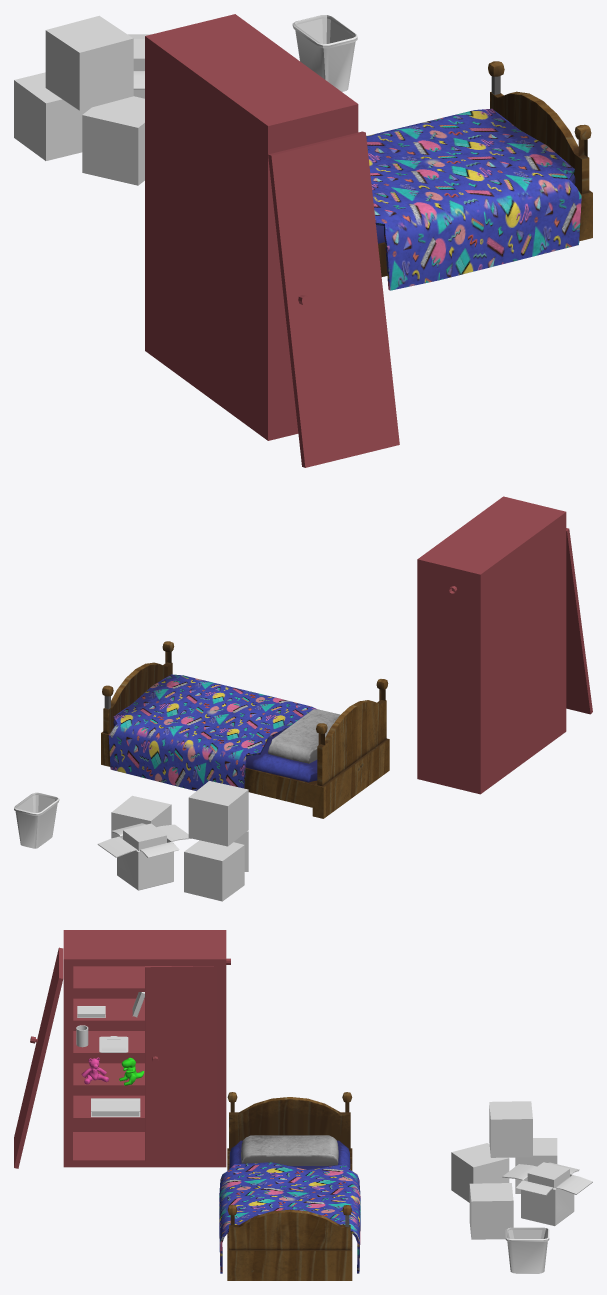
File: Cama.fbx
3 renders of one model, top to bottom at view 1: azimuth 30°, elevation 25°; view 2: azimuth 150°, elevation 25°; view 3: azimuth 270°, elevation 25°, orthographic. The views are drawn at different scales.
Visible parts, largest first — view 1: Cube.010, Cube.007, Cube.002, Cube.001, Cube.014, geo_BoteBasura_01; view 2: Cube.010, Cube.007, Cube.002, Cube.014, geo_CajaCarton_01, geo_BoteBasura_01, Cube.016, Cube.015; view 3: Cube.010, Cube.007, geo_CajaCarton_01, Cube.002, Cube.016, Cube.001, geo_BoteBasura_01, geo_libro_01, Cube.014, Cube.015, Clipboard_01.
Part boxes in pixels (x1,y1,x2,y2): Cube.010: (145, 14, 399, 467); Cube.007: (366, 61, 592, 290); Cube.002: (45, 15, 133, 110); Cube.001: (82, 96, 144, 185); Cube.014: (14, 72, 91, 160); geo_BoteBasura_01: (292, 15, 357, 91); Cube.010: (417, 496, 592, 794); Cube.007: (101, 641, 389, 818); Cube.002: (188, 781, 248, 846); Cube.014: (184, 840, 244, 901); geo_CajaCarton_01: (97, 823, 191, 890); geo_BoteBasura_01: (14, 792, 59, 848); Cube.016: (111, 795, 171, 838); Cube.015: (123, 823, 166, 850); Cube.010: (14, 930, 230, 1168); Cube.007: (219, 1092, 360, 1280); geo_CajaCarton_01: (502, 1162, 592, 1226); Cube.002: (489, 1101, 532, 1157); Cube.016: (469, 1183, 513, 1239); Cube.001: (451, 1143, 509, 1202); geo_BoteBasura_01: (505, 1227, 549, 1273); geo_libro_01: (91, 1098, 140, 1117); Cube.014: (515, 1138, 557, 1193); Cube.015: (527, 1162, 569, 1188); Clipboard_01: (99, 1036, 128, 1052).
Size of what is drawn, in the model's own units: 549 by 368 by 925.
